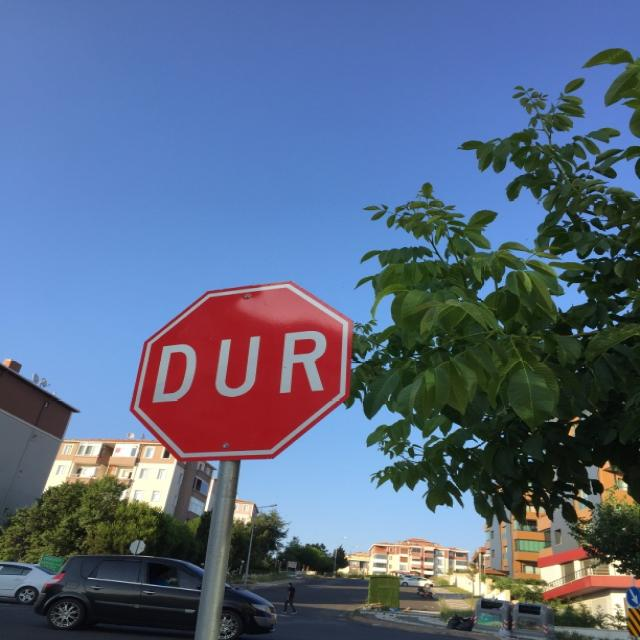dur: (128, 280, 352, 462)
